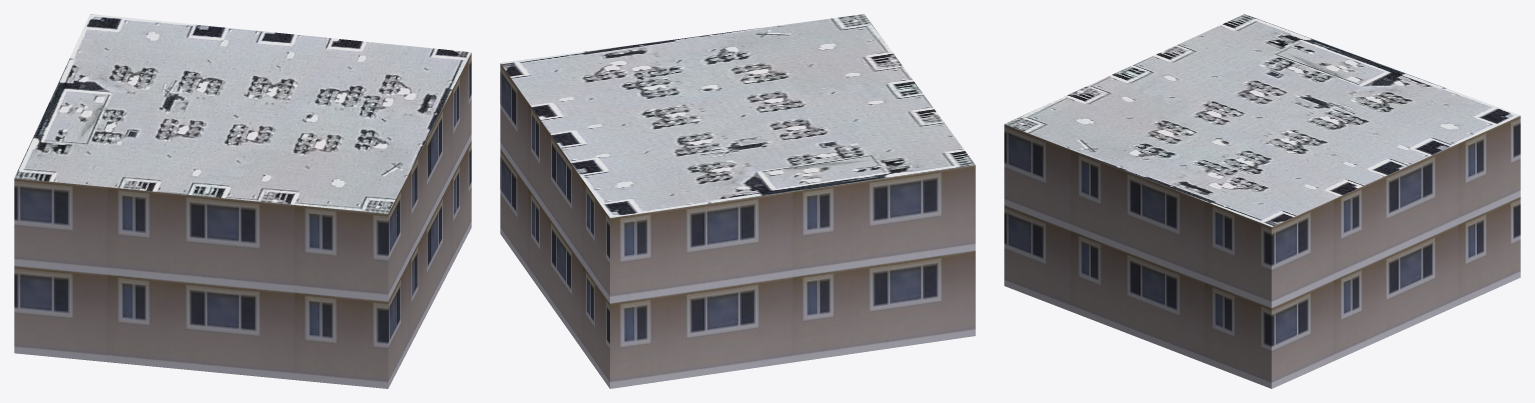
The model's file is ResTex__1026.fbx.
3 views of the same model, side by side, from view 1: azimuth 30°, elevation 25°; view 2: azimuth 150°, elevation 25°; view 3: azimuth 270°, elevation 25° (orthographic). The views are drawn at different scales.
Parts seen in each view (by area): view 1: CityEngineMaterial_21_m, CityEngineMaterial_2_m; view 2: CityEngineMaterial_21_m, CityEngineMaterial_2_m; view 3: CityEngineMaterial_21_m, CityEngineMaterial_2_m.
Boxes of the visible parts, left/top/right/bottom form: CityEngineMaterial_21_m: left=14, top=53, right=471, bottom=388; CityEngineMaterial_2_m: left=14, top=14, right=471, bottom=213; CityEngineMaterial_21_m: left=500, top=63, right=975, bottom=388; CityEngineMaterial_2_m: left=500, top=14, right=975, bottom=217; CityEngineMaterial_21_m: left=1004, top=116, right=1520, bottom=388; CityEngineMaterial_2_m: left=1004, top=14, right=1520, bottom=226.
Size of the model in its own units: 16.94 by 6 by 17.35.
Materials: 2 (2 with a texture image).
